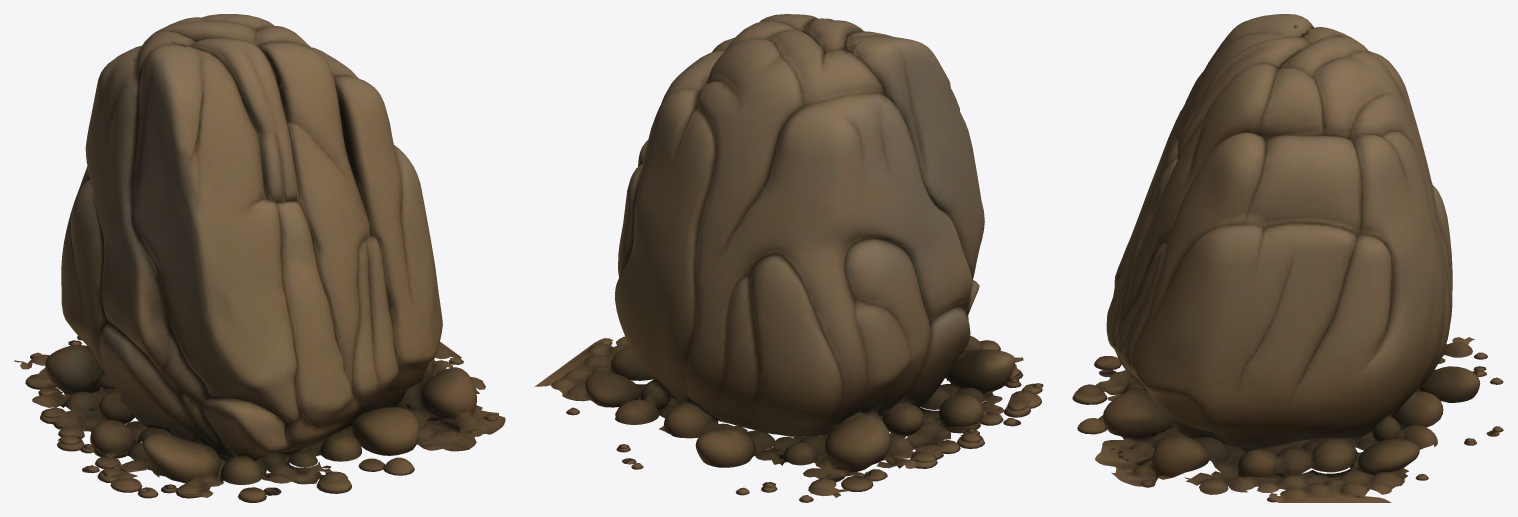
The model's file is a_large_rockface_c35cdd84_v4.glb.
The picture shows the model from 3 angles, left to right: view 1: azimuth 30°, elevation 25°; view 2: azimuth 150°, elevation 25°; view 3: azimuth 270°, elevation 25°; orthographic projection. The views are drawn at different scales.
Parts seen in each view (by area): view 1: material; view 2: material; view 3: material.
Part boxes in pixels (x1,y1,x2,y2): material: (14,14,505,502); material: (534,14,1043,502); material: (1072,14,1503,502).
Bounding box in the file's own units: 1.9 × 1.69 × 1.87.
Materials: 1 (1 with a texture image).
